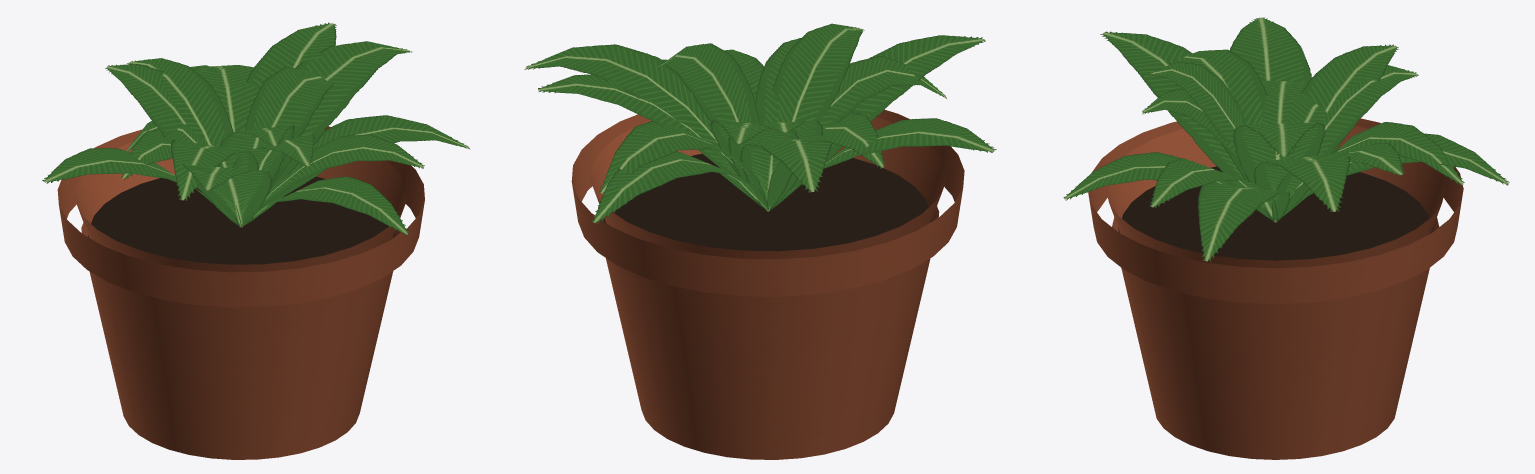
Rendered from plant.obj.
3 renders of one model, left to right at view 1: azimuth 30°, elevation 25°; view 2: azimuth 150°, elevation 25°; view 3: azimuth 270°, elevation 25°, orthographic. The views are drawn at different scales.
Visible parts, largest first — view 1: Pot, Leaves; view 2: Pot, Leaves; view 3: Pot, Leaves.
Part boxes in pixels (x1,y1,x2,y2): Pot: (57,126,424,459); Leaves: (42,22,469,235); Pot: (571,110,964,459); Leaves: (524,23,996,223); Pot: (1088,118,1463,459); Leaves: (1063,17,1509,261).
Bounding box in the file's own units: 0.8108 × 0.5961 × 0.7778.
Materials: 3 (2 with a texture image).
